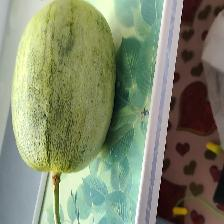gua: (29, 1, 99, 168)
